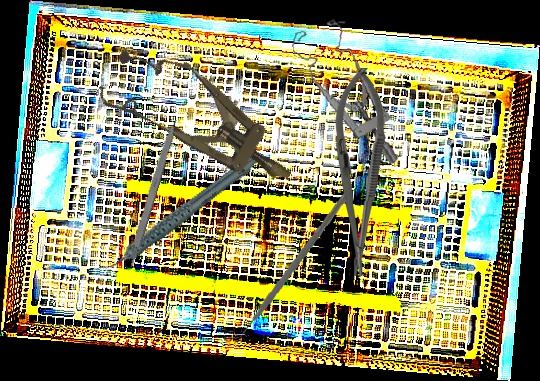Chopper: (222, 178, 353, 351)
Handpiece: (81, 152, 276, 274)
Needle Holder: (332, 67, 386, 277)
Scalpel Handle: (124, 120, 179, 268)
Speculum: (90, 30, 312, 212), (288, 11, 400, 178)
